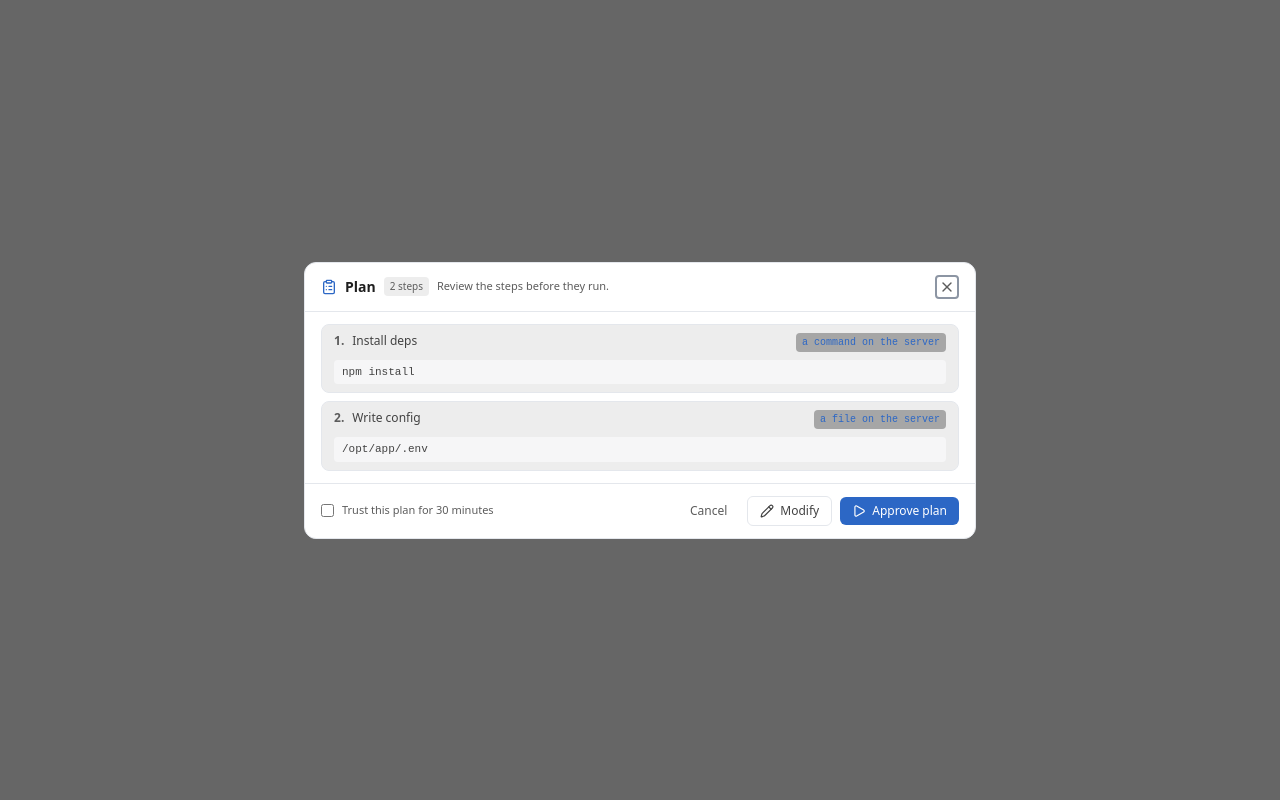
v2.6.0 C.3 - plan dialog › 7. Modify swaps commands for editable fields and the primary action changes
The image size is (1280, 800).
Click the button "Modify". click: {"x": 790, "y": 510}
box: [747,496,832,526]
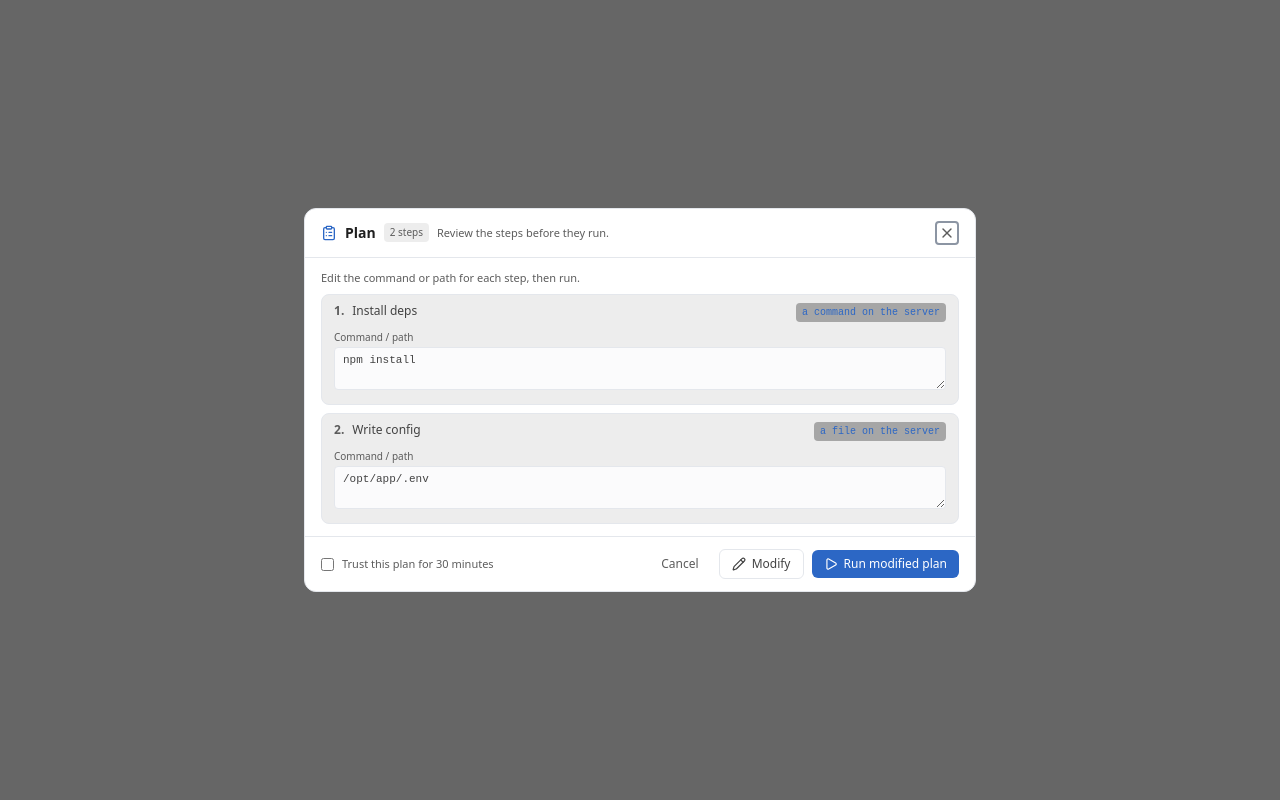
Expected: no elements with test id "plan-step-command" are shown
Expected: the number of text boxes is 2, [334,347,946,390]; [334,466,946,509]
Expected: the button "Run modified plan" is shown, [812,550,959,578]
